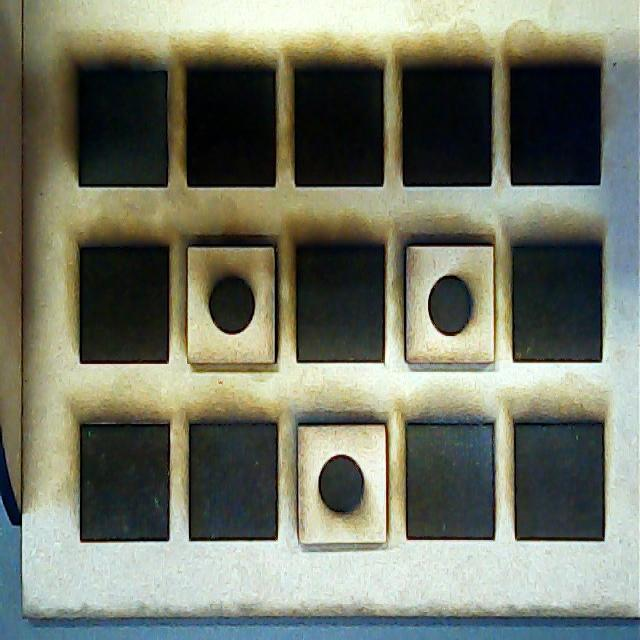circle: (188, 237, 282, 361), (406, 235, 498, 361), (300, 421, 390, 544)
